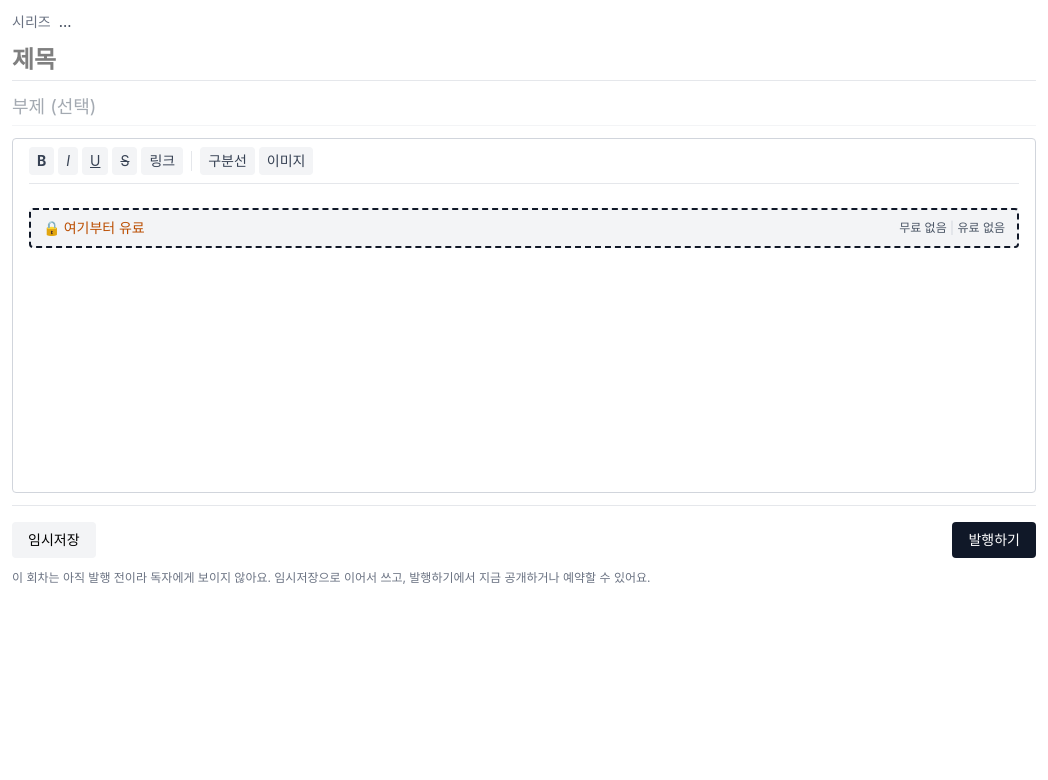
Test: EpisodeEditor › 제목 없이 임시저장하면 저장을 막고 제목 작성을 안내한다
Check: the button "이미지" is shown, box [259, 147, 313, 175]
Click the button "임시저장" at (54, 540), box [12, 522, 96, 558]
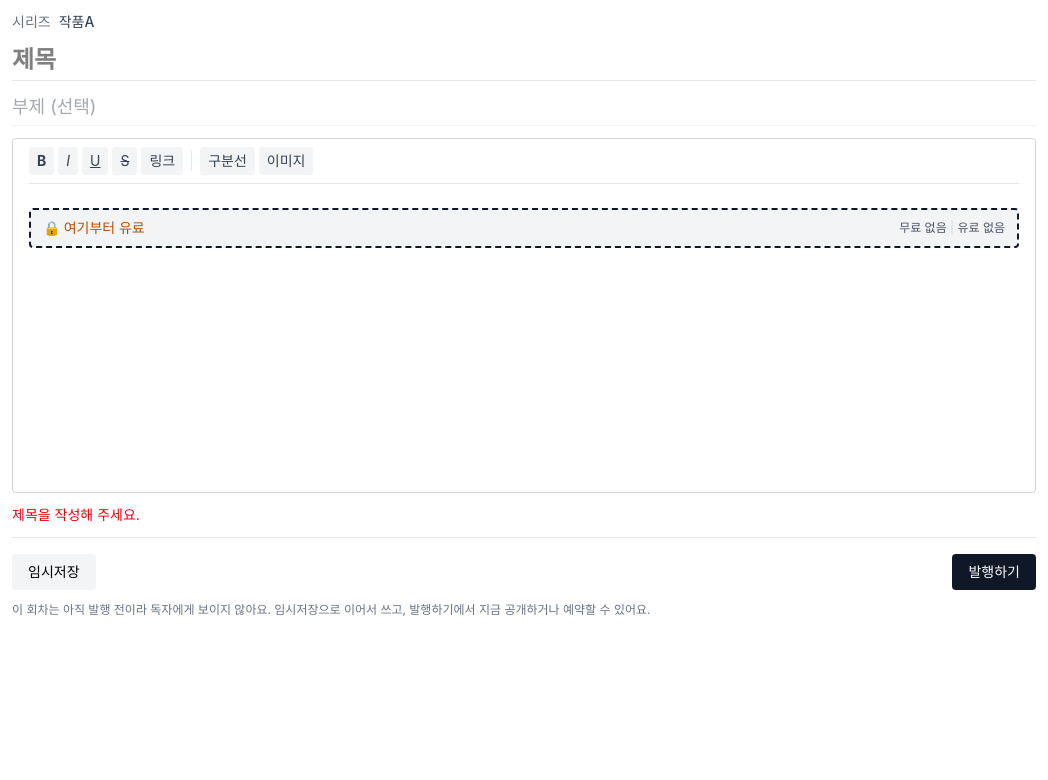
Check: the text "제목을 작성해 주세요." is shown, box [12, 506, 140, 523]
